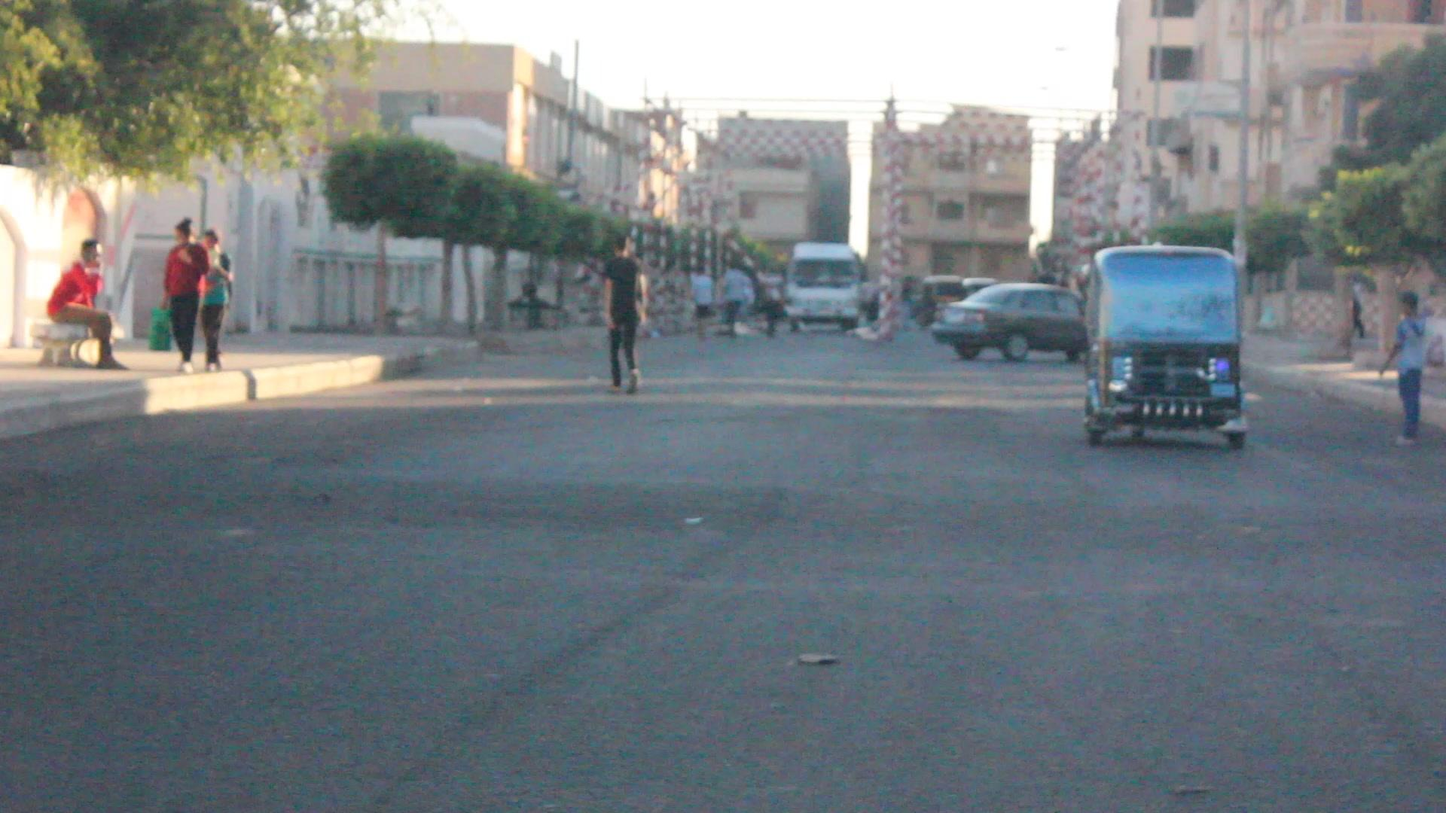Bump: (0, 465, 1446, 561)
